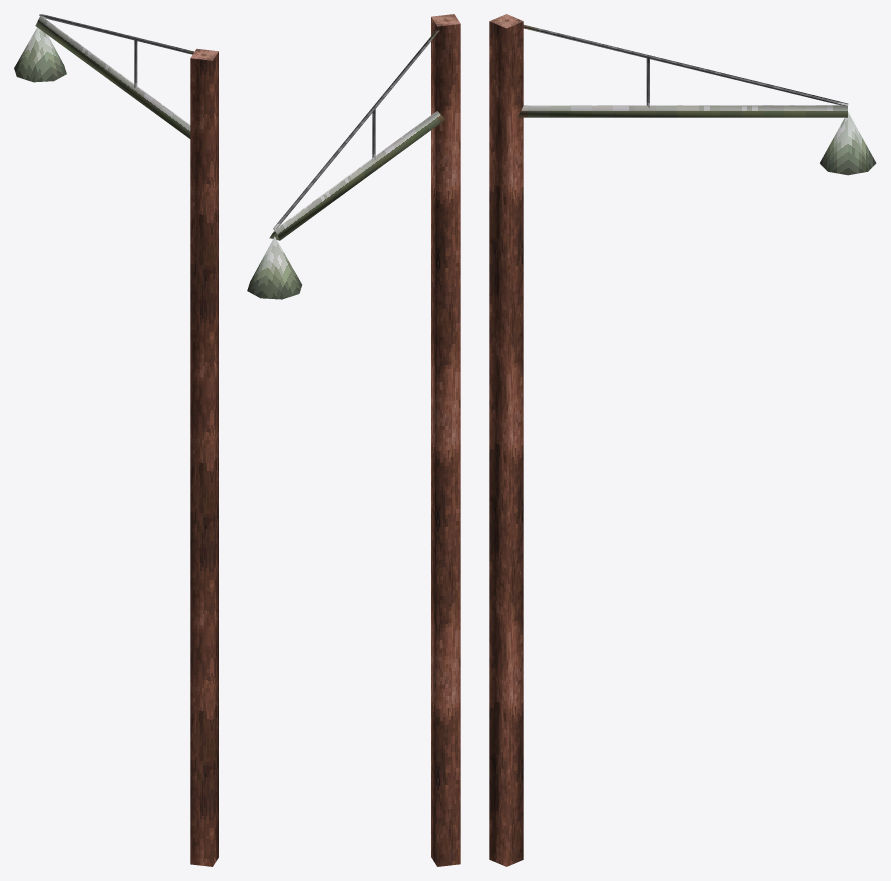
The model's file is Environment - Vegetation - Old Street Lamppost - PMOStrLmp.glb.
The picture shows the model from 3 angles, left to right: view 1: azimuth 30°, elevation 25°; view 2: azimuth 150°, elevation 25°; view 3: azimuth 270°, elevation 25°; orthographic projection. The views are drawn at different scales.
Parts seen in each view (by area): view 1: PMOSTRLMP; view 2: PMOSTRLMP; view 3: PMOSTRLMP.
Boxes of the visible parts, bbox=[...] form: PMOSTRLMP: bbox=[14, 14, 218, 866]; PMOSTRLMP: bbox=[247, 14, 460, 866]; PMOSTRLMP: bbox=[489, 14, 876, 866].
Size of the model in its own units: 1.87 by 30.48 by 12.75.
Materials: 1 (1 with a texture image).
